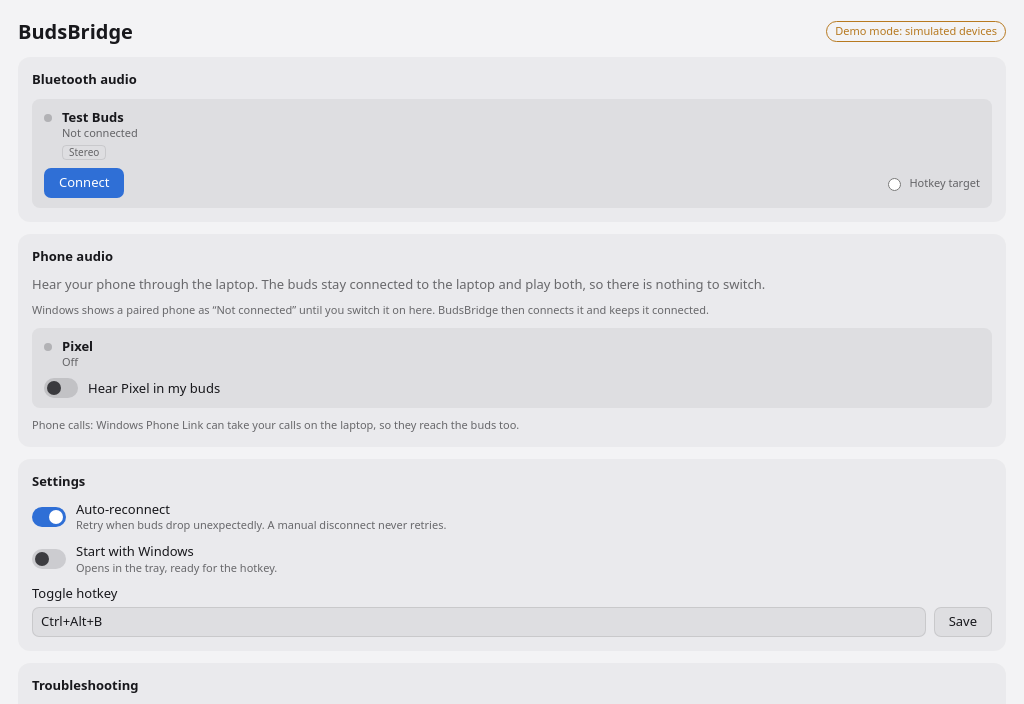
Scenario: App › saves settings and shows warnings
Click the checkbox labelled "Auto-reconnect" at (49, 517), box x1=32 y1=507 x2=66 y2=527
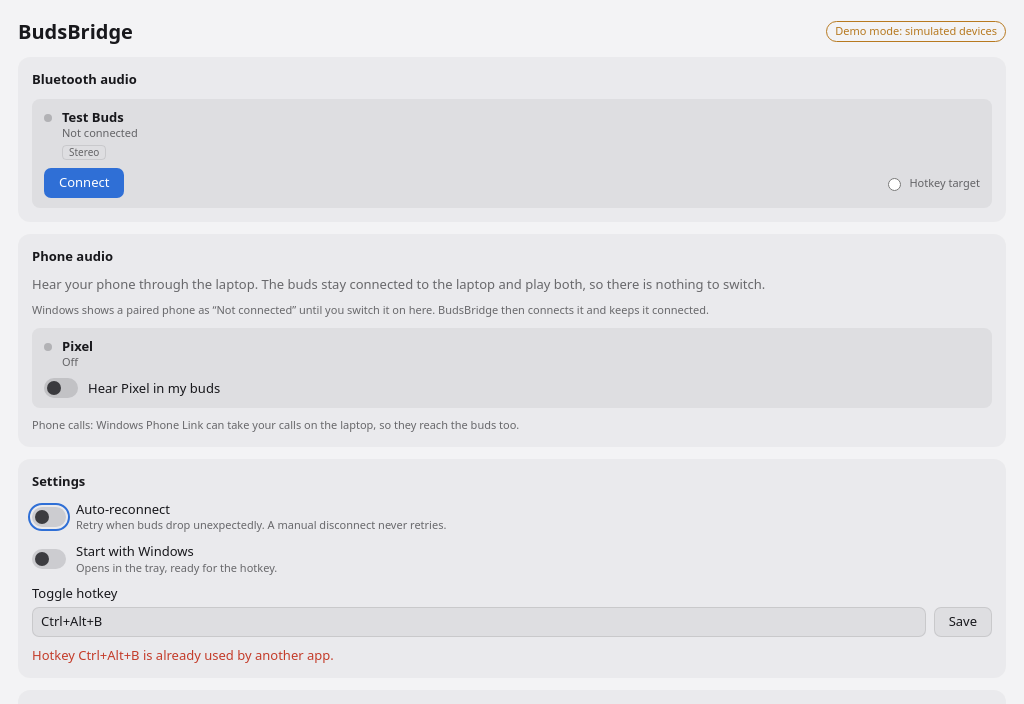
Check: the checkbox labelled "Auto-reconnect" is not checked, box x1=32 y1=507 x2=66 y2=527
Check: the list item "Hotkey Ctrl+Alt+B is already used by another app." is shown, box x1=32 y1=646 x2=334 y2=664
